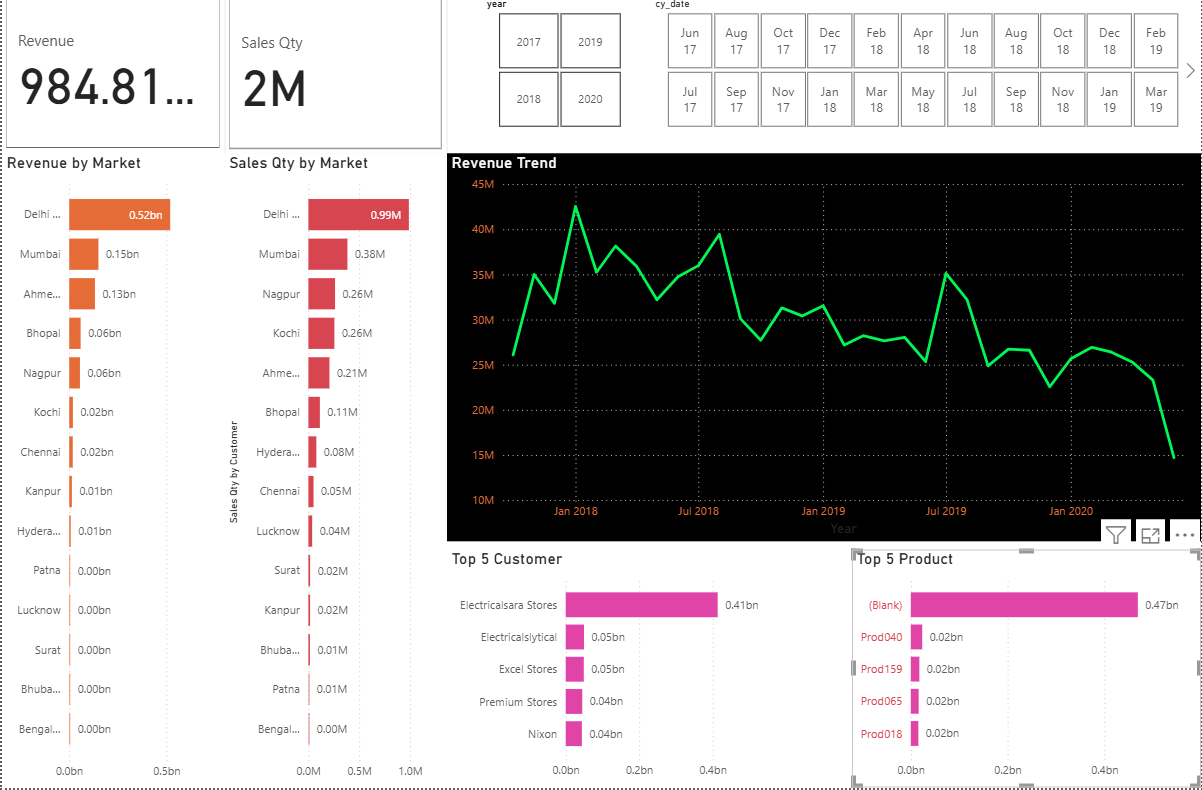

What the dashboard file says about the page in this screenshot:
{"tool":"powerbi","page":{"name":"Page 1","canvas":[1280,850],"ordinal":0},"visuals":[{"type":"cardVisual","fields":{"Data":["BaseMeasures.Revenue"]},"box":[0,0,237.4,171.5],"z":0},{"type":"cardVisual","fields":{"Data":["BaseMeasures.Sales Qty"]},"box":[237.4,1.4,237.4,171.5],"z":1000},{"type":"barChart","title":"Revenue by Market","fields":{"Y":["BaseMeasures.Revenue"],"Category":["sales markets.markets_name"]},"box":[0,171.5,237.4,677.9],"z":2000},{"type":"barChart","title":"Sales Qty by Market","fields":{"Y":["BaseMeasures.Sales Qty"],"Category":["sales markets.markets_name"]},"box":[237.4,171.5,237.4,677.9],"z":3000},{"type":"slicer","fields":{"Values":["sales date.year"]},"box":[505,1.4,179.8,149],"z":4000},{"type":"slicer","fields":{"Values":["sales date.cy_date"]},"box":[684.7,1.4,595.5,149.6],"z":5000},{"type":"barChart","title":"Top 5 Customer","fields":{"Y":["BaseMeasures.Revenue","BaseMeasures.Revenue"],"Category":["sales customers.custmer_name"]},"box":[474.8,595.5,358.1,253.9],"z":6000},{"type":"barChart","title":"Top 5 Product","fields":{"Y":["BaseMeasures.Revenue"],"Category":["sales products.product_code"]},"box":[907.7,595.3,372.4,253.6],"z":7000},{"type":"lineChart","title":"Revenue Trend","fields":{"Y":["BaseMeasures.Revenue"],"Category":["sales date.cy_date.Variation.Date Hierarchy.Year","sales date.cy_date.Variation.Date Hierarchy.Quarter","sales date.cy_date.Variation.Date Hierarchy.Month","sales date.cy_date.Variation.Date Hierarchy.Day"]},"box":[474.8,171.5,805.5,414.4],"z":8000}]}

Visuals, with their boxes in screenshot pixels (x1, y1, x2, y2), scaled from the page's 1280x850 canvas onto the 1202x790 screenshot:
cardVisual - BaseMeasures.Revenue: (x1=0, y1=0, x2=223, y2=159)
cardVisual - BaseMeasures.Sales Qty: (x1=223, y1=1, x2=446, y2=161)
"Revenue by Market" barChart: (x1=0, y1=159, x2=223, y2=789)
"Sales Qty by Market" barChart: (x1=223, y1=159, x2=446, y2=789)
slicer - sales date.year: (x1=474, y1=1, x2=643, y2=140)
slicer - sales date.cy_date: (x1=643, y1=1, x2=1201, y2=140)
"Top 5 Customer" barChart: (x1=446, y1=553, x2=782, y2=789)
"Top 5 Product" barChart: (x1=852, y1=553, x2=1201, y2=789)
"Revenue Trend" lineChart: (x1=446, y1=159, x2=1201, y2=545)
